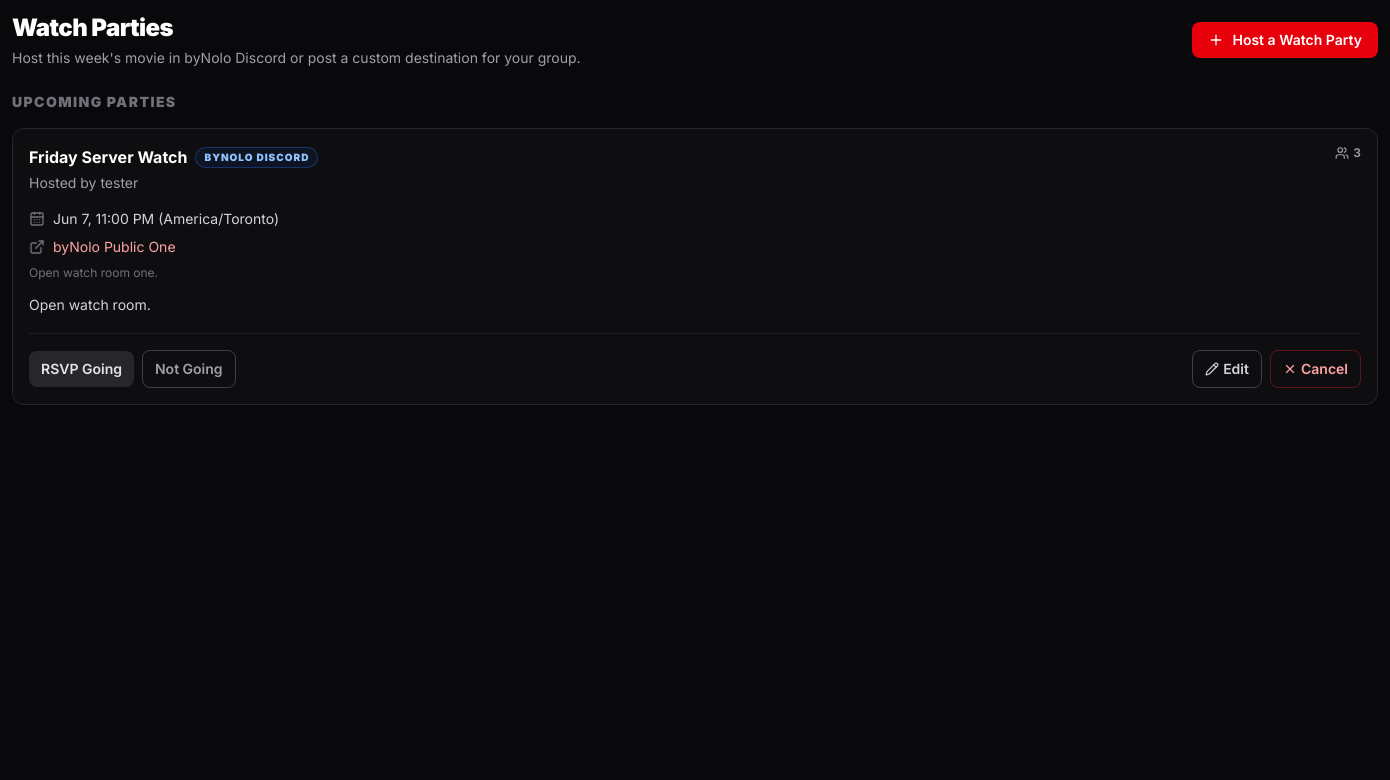
Scenario: WatchPartyBoard › shows host mode selection and custom link fields in the create flow
Click the button "Host a Watch Party" at point(1285, 40), box [1192, 22, 1378, 58]
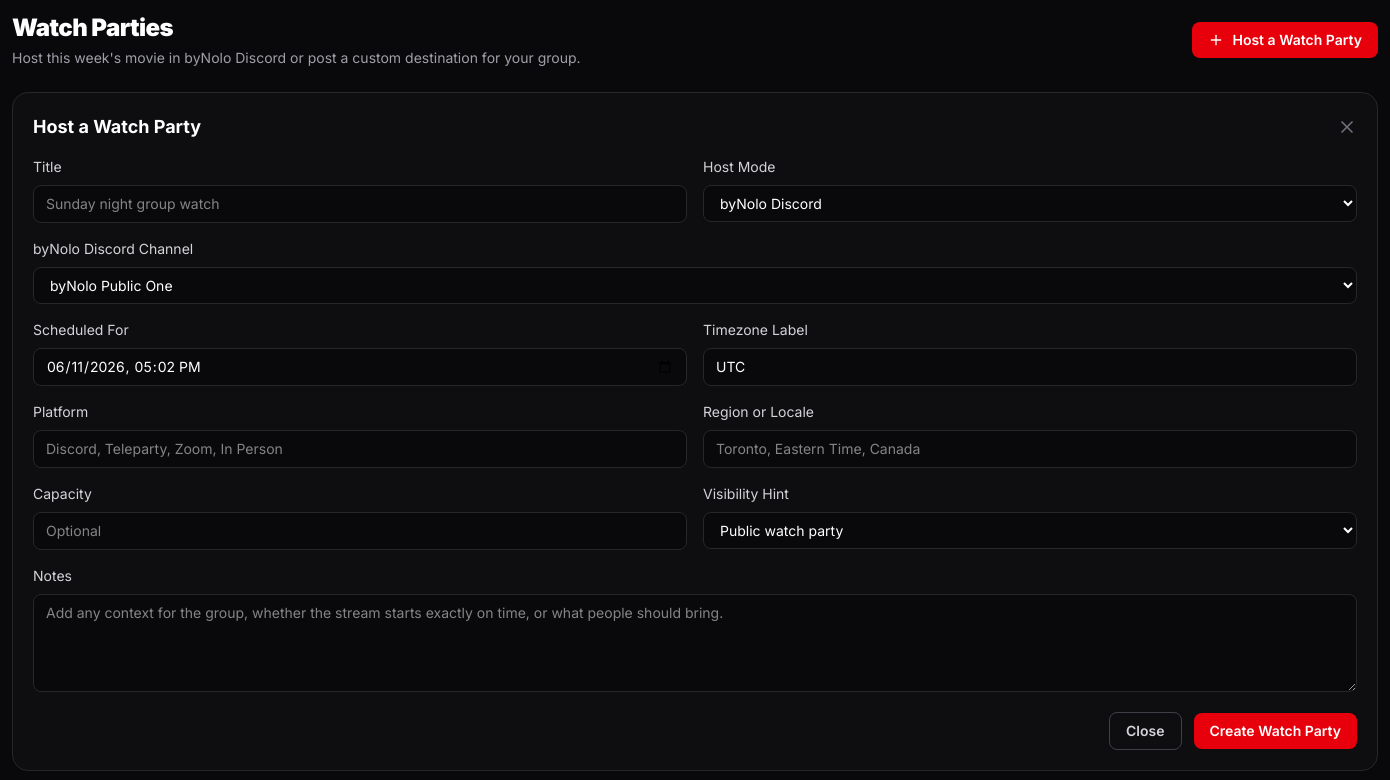
Now the dropdown labelled "byNolo Discord Channel" is shown, box [33, 267, 1357, 304]
Select "Custom Link" in the dropdown labelled "Host Mode" at point(1030, 204), box [703, 185, 1357, 222]
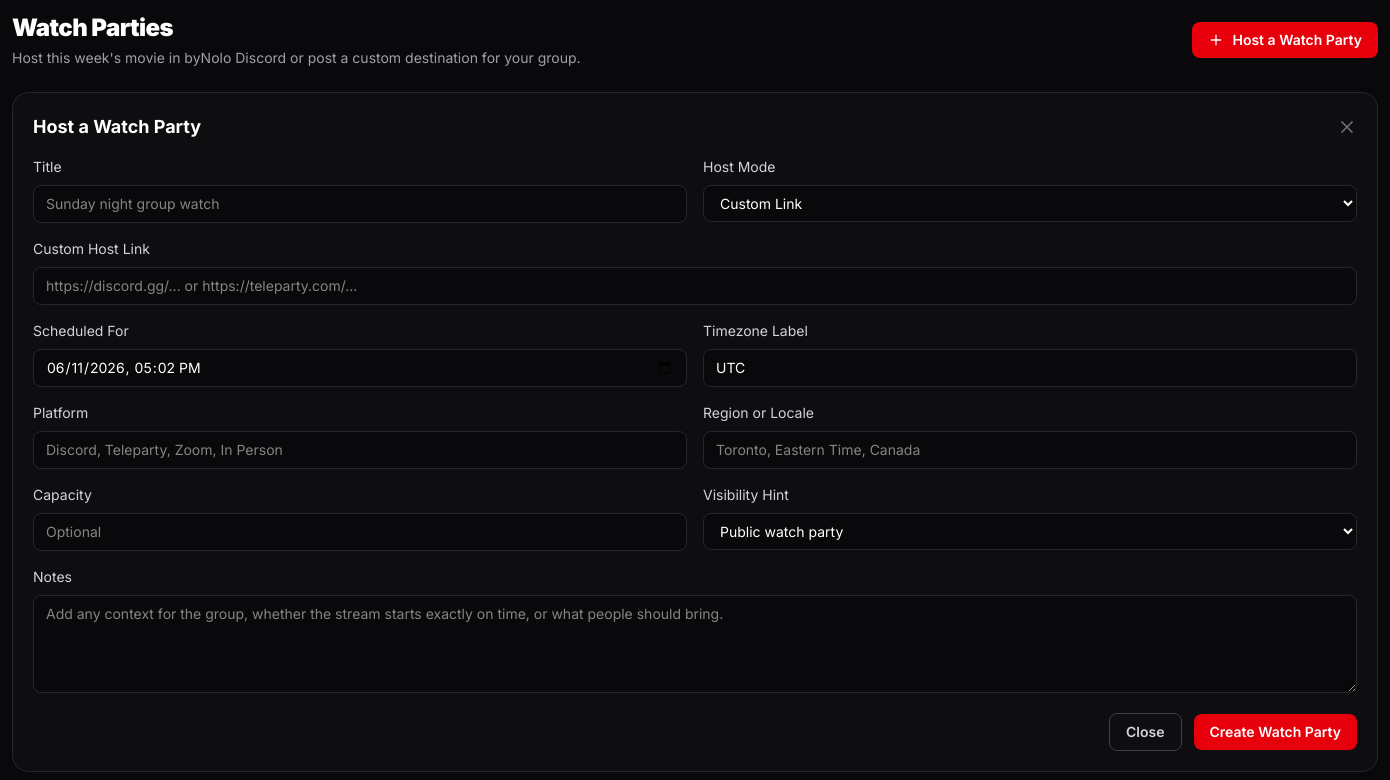
Now the field labelled "Custom Host Link" is shown, box [33, 267, 1357, 305]
